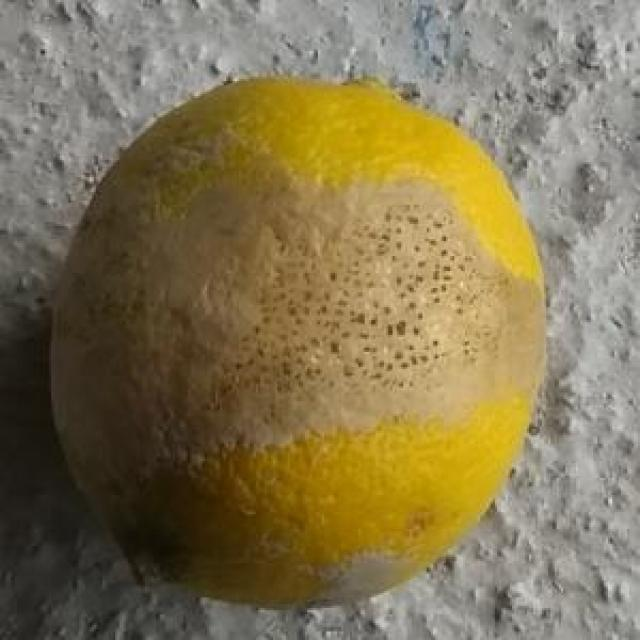lemon: (53, 76, 546, 601)
